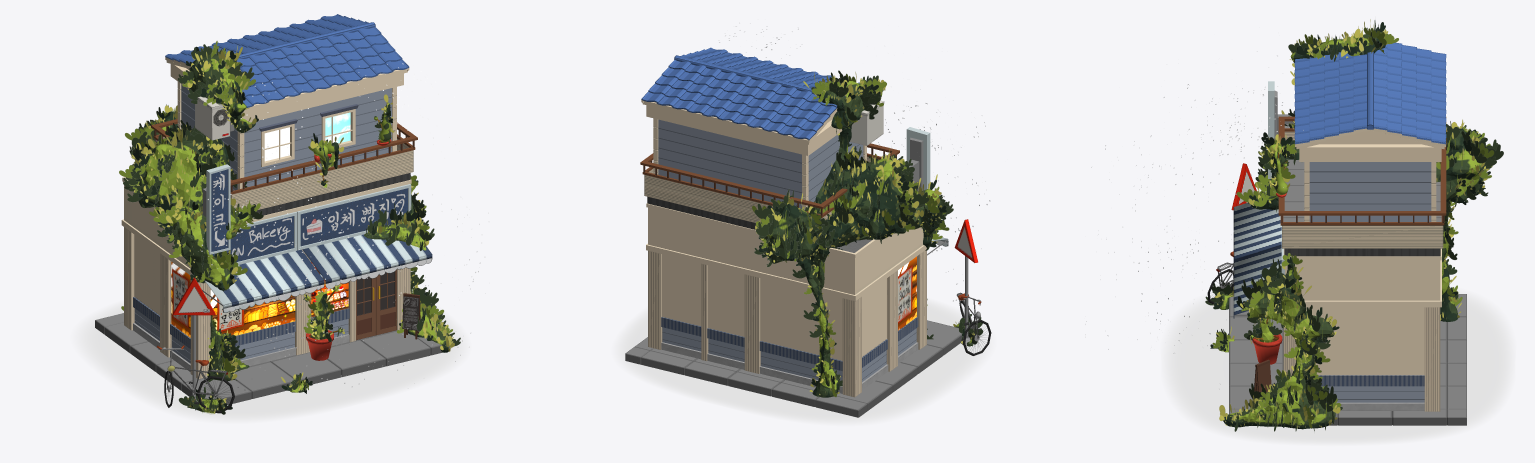
File: korean_bakery.glb
The picture shows the model from 3 angles, left to right: view 1: azimuth 30°, elevation 25°; view 2: azimuth 150°, elevation 25°; view 3: azimuth 270°, elevation 25°; orthographic projection. The views are drawn at different scales.
Visible parts, largest first — view 1: Object_22, Object_4, Object_20, Object_48, Object_66, Object_14, Object_12, Object_30, Object_60, Object_28, Object_40, Object_46 (+15 smaller); view 2: Object_12, Object_22, Object_48, Object_4, Object_20, Object_28, Object_42, Object_60, Object_66, Object_32, Object_40, Object_54 (+9 smaller); view 3: Object_4, Object_22, Object_48, Object_20, Object_12, Object_66, Object_60, Object_42, Object_40, Object_30, Object_28, Object_54 (+12 smaller).
Part boxes in pixels (x1,y1,x2,y2): Object_22: (119, 41, 460, 414); Object_4: (73, 258, 469, 422); Object_20: (134, 54, 449, 413); Object_48: (165, 14, 409, 107); Object_66: (95, 313, 442, 404); Object_14: (211, 112, 419, 330); Object_12: (133, 235, 349, 371); Object_30: (201, 234, 432, 308); Object_60: (181, 84, 391, 190); Object_28: (121, 219, 410, 378); Object_40: (155, 139, 413, 209); Object_46: (202, 164, 411, 264); Object_12: (661, 254, 918, 393); Object_22: (752, 70, 983, 397); Object_48: (641, 47, 859, 140); Object_4: (614, 240, 993, 425); Object_20: (764, 81, 973, 397); Object_28: (646, 243, 926, 397); Object_42: (646, 203, 923, 294); Object_60: (658, 119, 863, 208); Object_66: (625, 320, 962, 417); Object_32: (662, 327, 916, 381); Object_40: (644, 174, 831, 222); Object_54: (646, 105, 842, 155); Object_4: (1161, 287, 1515, 445); Object_22: (1205, 19, 1503, 431); Object_48: (1294, 42, 1446, 144); Object_20: (1218, 34, 1484, 429); Object_12: (1306, 307, 1424, 410); Object_66: (1229, 159, 1466, 425); Object_60: (1309, 162, 1431, 221); Object_42: (1283, 248, 1441, 300); Object_40: (1282, 225, 1443, 248); Object_30: (1233, 202, 1281, 318); Object_28: (1283, 249, 1441, 411); Object_54: (1299, 144, 1441, 161).
Size of the model in its own units: 2.38 by 2.05 by 2.5.
5 materials, 5 textured.
